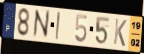5: (95, 16, 112, 46), (74, 13, 88, 44)
8: (17, 7, 31, 38)
I: (54, 11, 61, 42)
K: (112, 17, 128, 48)
N: (32, 9, 51, 40)
